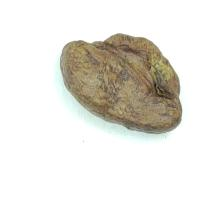NG: (78, 32, 181, 107)
